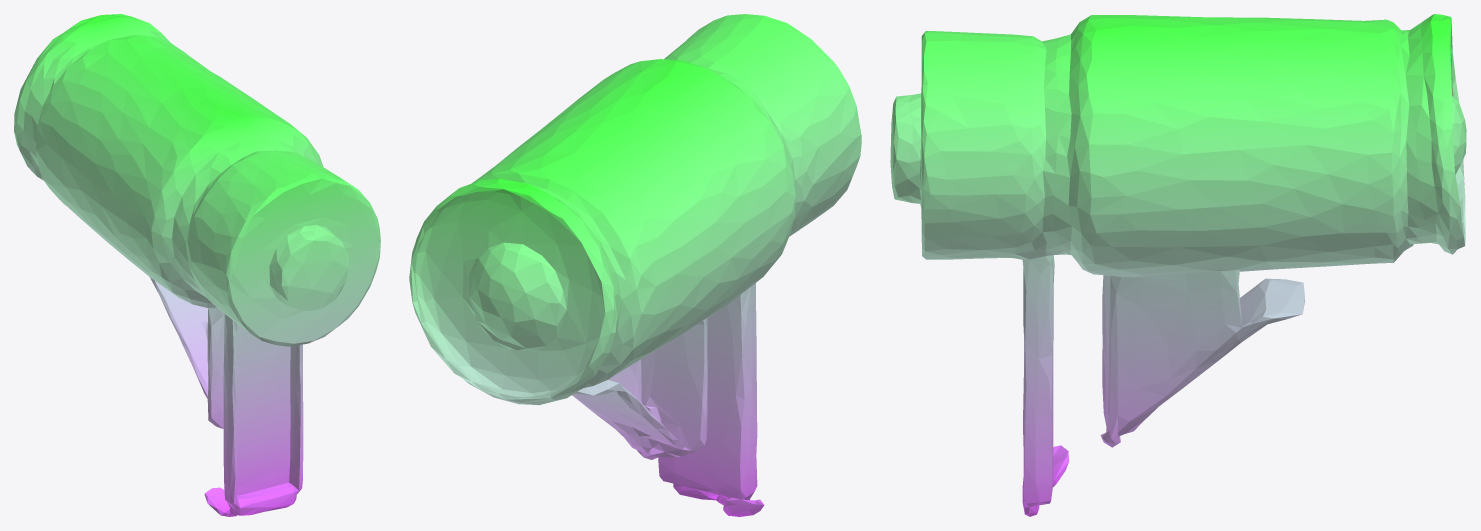
Rendered from 138_cyb_laser_gradient_fish_scales_2857_2026_10_03_a48628.glb.
The picture shows the model from 3 angles, left to right: view 1: azimuth 30°, elevation 25°; view 2: azimuth 150°, elevation 25°; view 3: azimuth 270°, elevation 25°; orthographic projection. The views are drawn at different scales.
Visible parts, largest first — view 1: geometry_0; view 2: geometry_0; view 3: geometry_0.
Part boxes in pixels (x1,y1,x2,y2): geometry_0: (14,14,380,516); geometry_0: (409,14,861,516); geometry_0: (890,14,1466,516).
Bounding box in the file's own units: 0.396 × 0.804 × 0.8809.
